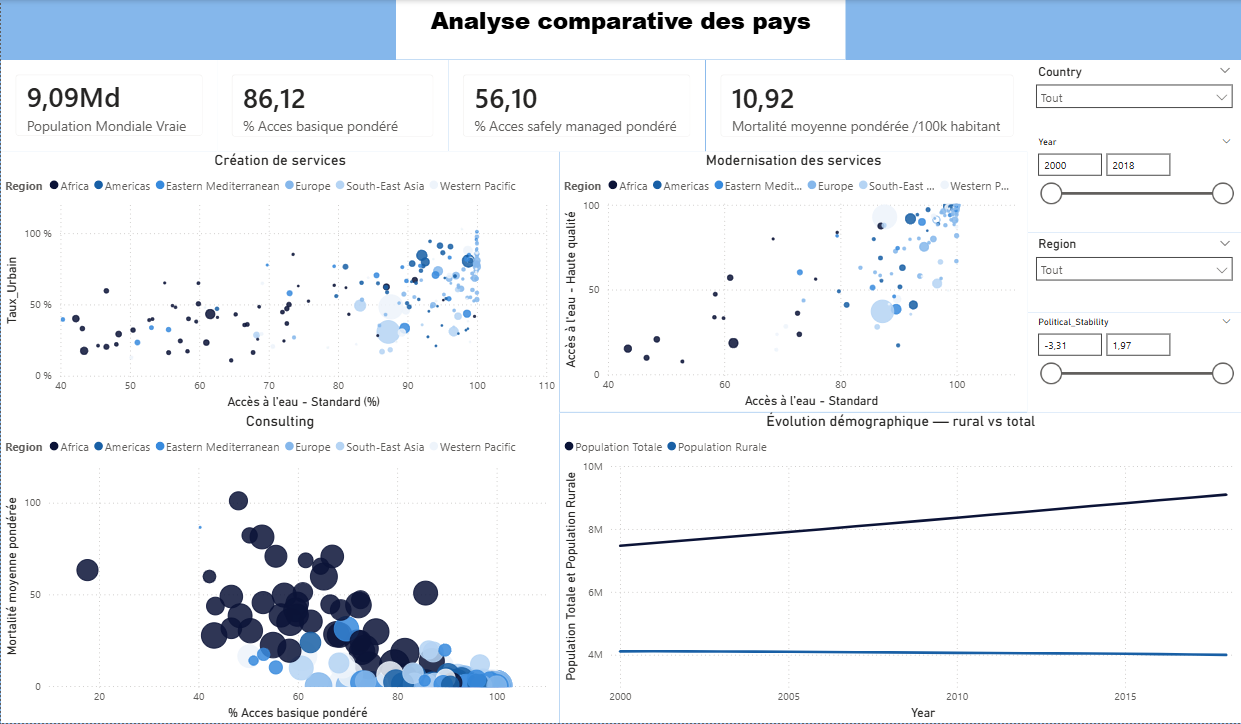

The page's visual inventory and layout, read from the dashboard file:
{"tool":"powerbi","page":{"name":"Vue Nationale","canvas":[1450,846],"ordinal":2},"visuals":[{"type":"textbox","box":[212.3,0,524.3,69.3],"z":0},{"type":"slicer","fields":{"Values":["RegionCountry.Country"]},"box":[1200,70,250.3,85.5],"z":1000},{"type":"scatterChart","title":"Modernisation des services","fields":{"Category":["RegionCountry.Country"],"Series":["RegionCountry.Region"],"Size":["Population.Population Totale"],"X":["Annee.Basique par pays"],"Y":["Annee.Safely managed par pays"]},"box":[652.8,174.8,547.4,307.6],"z":2000},{"type":"scatterChart","title":"Consulting","fields":{"Category":["RegionCountry.Country"],"Y":["MortalityRateAttributedToWater.Mortalité moyenne pondérée"],"Size":["Sum(PoliticalStability.Political_Stability)"],"Series":["RegionCountry.Region"],"X":["Annee.Stabilité par pays"]},"box":[0,482.4,652.8,363.9],"z":3000},{"type":"scatterChart","title":"Création de services","fields":{"Y":["Population.Taux_Urbain"],"Category":["RegionCountry.Country"],"Series":["RegionCountry.Region"],"Size":["Population.Population Totale"],"X":["Annee.Basique par pays"]},"box":[0,177.6,652.8,309.1],"z":4000},{"type":"slicer","fields":{"Values":["Annee.Annee"]},"box":[1200.4,155.2,250.2,116.5],"z":5000},{"type":"slicer","fields":{"Values":["RegionCountry.Region"]},"box":[1200.1,271.5,249.9,93.9],"z":6000},{"type":"slicer","fields":{"Values":["PoliticalStability.Political_Stability"]},"box":[1200,365.3,250.3,116.6],"z":7000},{"type":"cardVisual","fields":{"Data":["Population.Population Mondiale Vraie"]},"box":[0,69.3,254.2,108.3],"z":8000},{"type":"cardVisual","fields":{"Data":["Population.% Acces safely managed pondéré"]},"box":[524.3,69.3,299,108.3],"z":9000},{"type":"cardVisual","fields":{"Data":["Population.% Acces basique pondéré"]},"box":[252.7,69.3,271.5,108.3],"z":10000},{"type":"cardVisual","fields":{"Data":["MortalityRateAttributedToWater.Mortalité KPI"]},"box":[823.2,69.3,378.4,106.9],"z":11000},{"type":"lineChart","title":"Évolution démographique — rural vs total","fields":{"Y":["Population.Population Totale","Population.Population Rurale"],"Category":["Annee.Annee"]},"box":[652.9,481.9,797.4,363.7],"z":12000},{"type":"pageNavigator","box":[850.6,8.7,599.4,50.5],"z":13000}]}

Visuals, with their boxes in screenshot pixels (x1, y1, x2, y2), scaled from the page's 1450x846 canvas onto the 1241x724 screenshot:
textbox: 182, 0, 630, 59
slicer - RegionCountry.Country: 1027, 60, 1240, 133
"Modernisation des services" scatterChart: 559, 150, 1027, 413
"Consulting" scatterChart: 0, 413, 559, 723
"Création de services" scatterChart: 0, 152, 559, 417
slicer - Annee.Annee: 1027, 133, 1240, 233
slicer - RegionCountry.Region: 1027, 232, 1240, 313
slicer - PoliticalStability.Political_Stability: 1027, 313, 1240, 412
cardVisual - Population.Population Mondiale Vraie: 0, 59, 218, 152
cardVisual - Population.% Acces safely managed pondéré: 449, 59, 705, 152
cardVisual - Population.% Acces basique pondéré: 216, 59, 449, 152
cardVisual - MortalityRateAttributedToWater.Mortalité KPI: 705, 59, 1028, 151
"Évolution démographique — rural vs total" lineChart: 559, 412, 1240, 723
pageNavigator: 728, 7, 1240, 51
